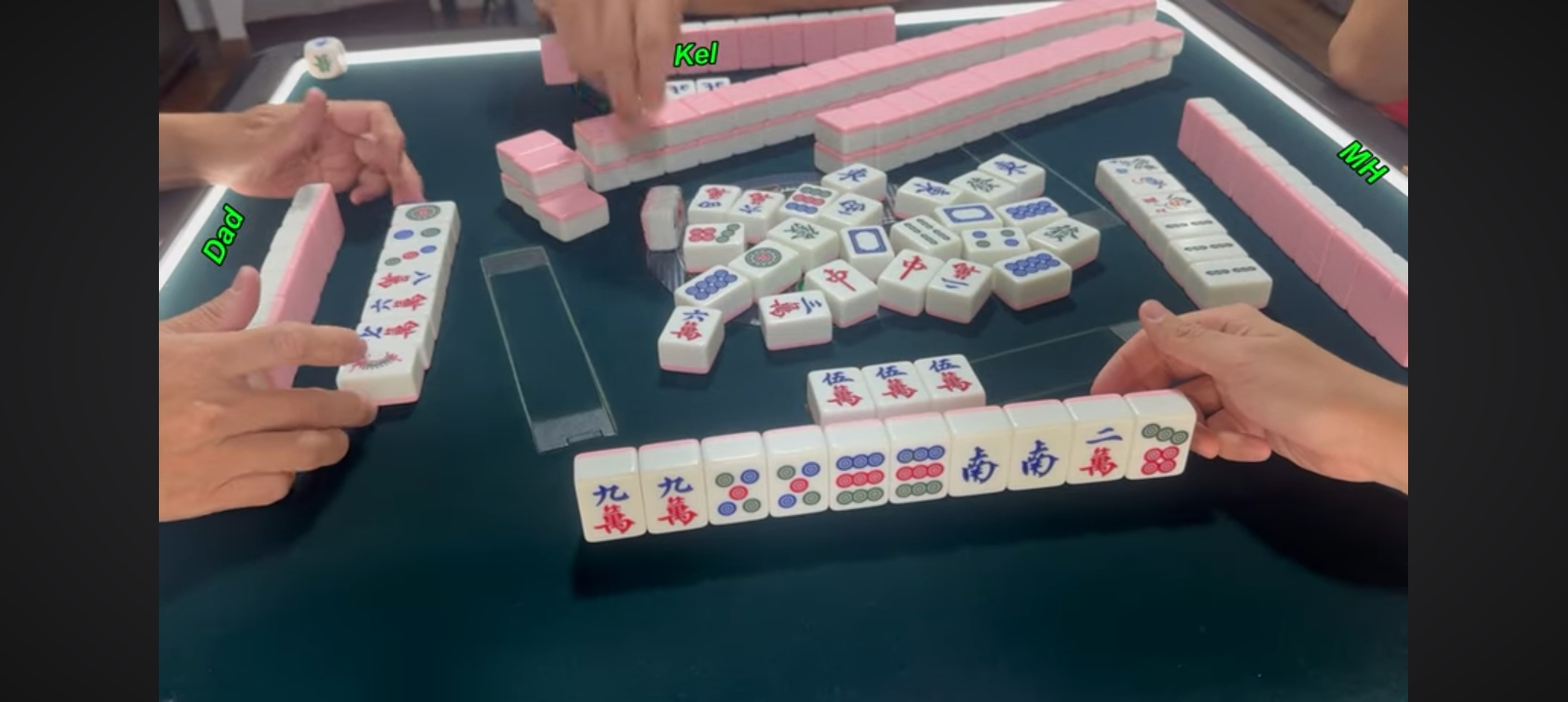TILE: (574, 475, 645, 538), (1011, 427, 1071, 488), (889, 443, 951, 502), (952, 435, 1011, 496), (830, 450, 890, 509), (767, 457, 828, 515), (1074, 423, 1133, 482), (643, 473, 704, 530), (1135, 419, 1195, 476), (706, 462, 765, 518), (807, 367, 874, 412), (920, 356, 987, 397), (864, 364, 925, 407)
